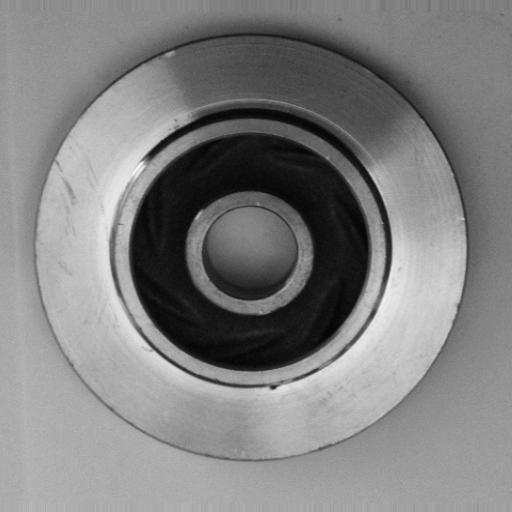crack: (254, 374, 297, 398)
unpolished_casting: (30, 29, 472, 463)
